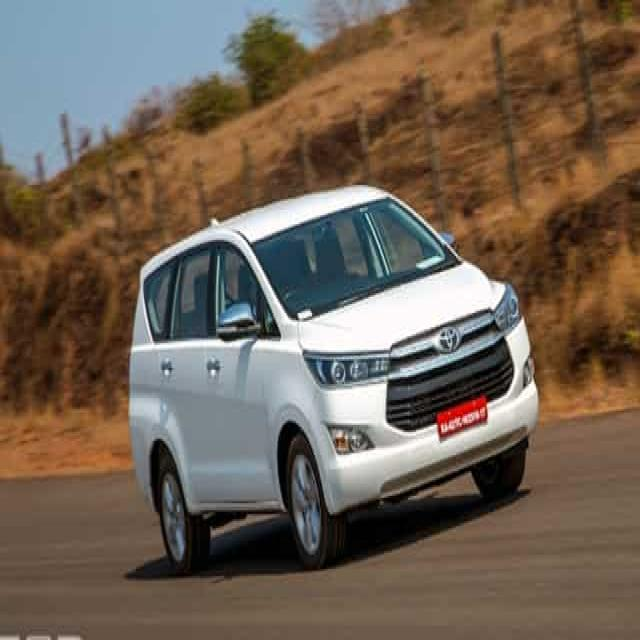light_vehicle: (127, 184, 540, 577)
